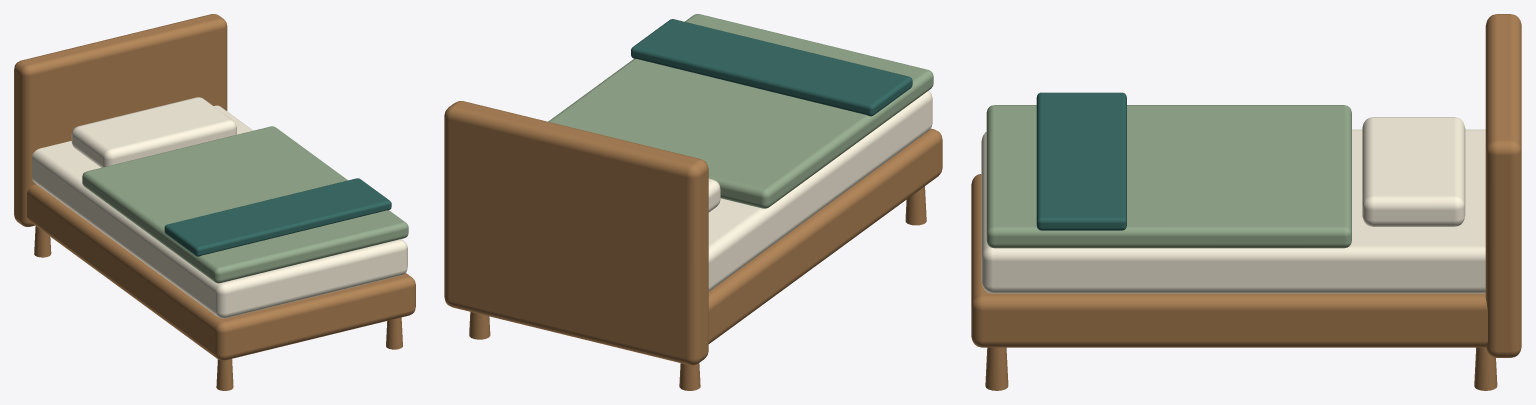
The model's file is bed.glb.
3 views of the same model, side by side, from view 1: azimuth 30°, elevation 25°; view 2: azimuth 150°, elevation 25°; view 3: azimuth 270°, elevation 25° (orthographic). The views are drawn at different scales.
Parts seen in each view (by area): view 1: duvet, headboard, bed-frame, mattress, folded-blanket, pillow, leg (×3); view 2: headboard, duvet, bed-frame, folded-blanket, mattress, leg (×3); view 3: duvet, mattress, bed-frame, folded-blanket, headboard, pillow, leg (×2).
Boxes of the visible parts, x1,y1,x2,y2 form: duvet: (82,126,408,283); headboard: (14,14,227,226); bed-frame: (27,184,415,360); mattress: (32,105,407,318); folded-blanket: (164,178,391,256); pillow: (71,97,236,167); leg (×3): (34,226,402,390); headboard: (444,101,708,365); duvet: (548,14,933,208); bed-frame: (708,128,942,343); folded-blanket: (631,19,912,116); mattress: (708,90,932,291); leg (×3): (469,186,926,390); duvet: (986,105,1351,248); mattress: (981,129,1485,293); bed-frame: (971,174,1487,347); folded-blanket: (1036,92,1126,230); headboard: (1485,14,1521,357); pillow: (1362,117,1465,226); leg (×2): (985,347,1497,390).
Size of the model in its own units: 1.24 by 1.09 by 2.14.
